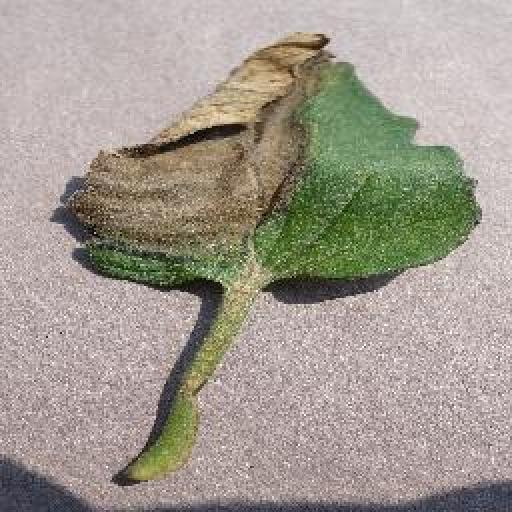Late Blight: (59, 28, 484, 287)
